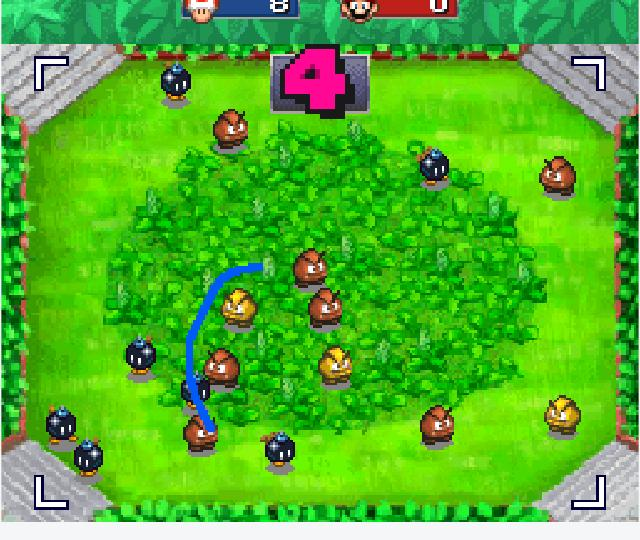bomb: (157, 59, 196, 111), (415, 142, 455, 190), (41, 402, 82, 448), (259, 429, 298, 472), (123, 334, 160, 378), (71, 438, 105, 482), (179, 372, 211, 412)
goomba: (217, 285, 263, 330), (537, 152, 578, 202), (542, 392, 586, 438), (302, 285, 345, 332), (288, 245, 330, 290), (211, 105, 251, 152), (316, 345, 357, 389), (181, 412, 222, 456), (418, 403, 457, 448), (202, 346, 241, 388)
